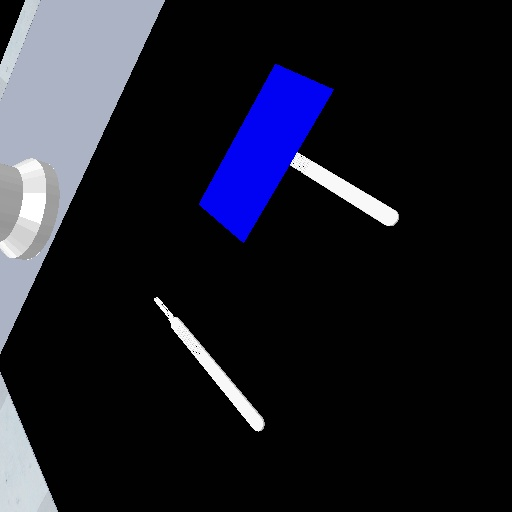bisturi: (150, 292, 269, 436), (288, 151, 402, 230)
